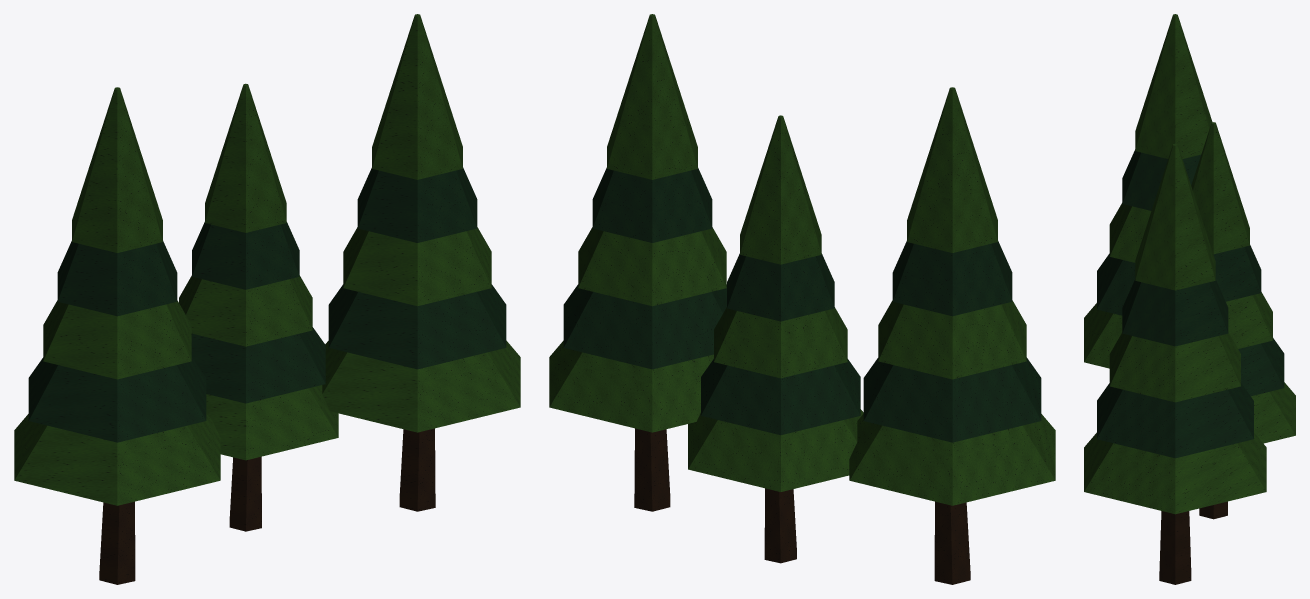
Rendered from PROP-3144CAFE9465_lod2.glb.
3 views of the same model, side by side, from view 1: azimuth 30°, elevation 25°; view 2: azimuth 150°, elevation 25°; view 3: azimuth 270°, elevation 25° (orthographic). The views are drawn at different scales.
Visible parts, largest first — view 1: layered_conifer_crown.002, layered_conifer_crown.003, trunk.001; view 2: layered_conifer_crown.002, layered_conifer_crown.003, trunk.001; view 3: layered_conifer_crown.002, layered_conifer_crown.003, trunk.001.
Part boxes in pixels (left/top/right/bottom): layered_conifer_crown.002: left=14, top=14, right=520, bottom=505; layered_conifer_crown.003: left=28, top=167, right=506, bottom=442; trunk.001: left=99, top=428, right=435, bottom=584; layered_conifer_crown.002: left=549, top=14, right=1055, bottom=505; layered_conifer_crown.003: left=563, top=167, right=1041, bottom=442; trunk.001: left=634, top=428, right=970, bottom=584; layered_conifer_crown.002: left=1084, top=14, right=1295, bottom=514; layered_conifer_crown.003: left=1097, top=149, right=1284, bottom=458; trunk.001: left=1159, top=501, right=1227, bottom=584.
Bounding box in the file's own units: 6.75 × 6.22 × 2.76.
3 materials, 3 textured.
